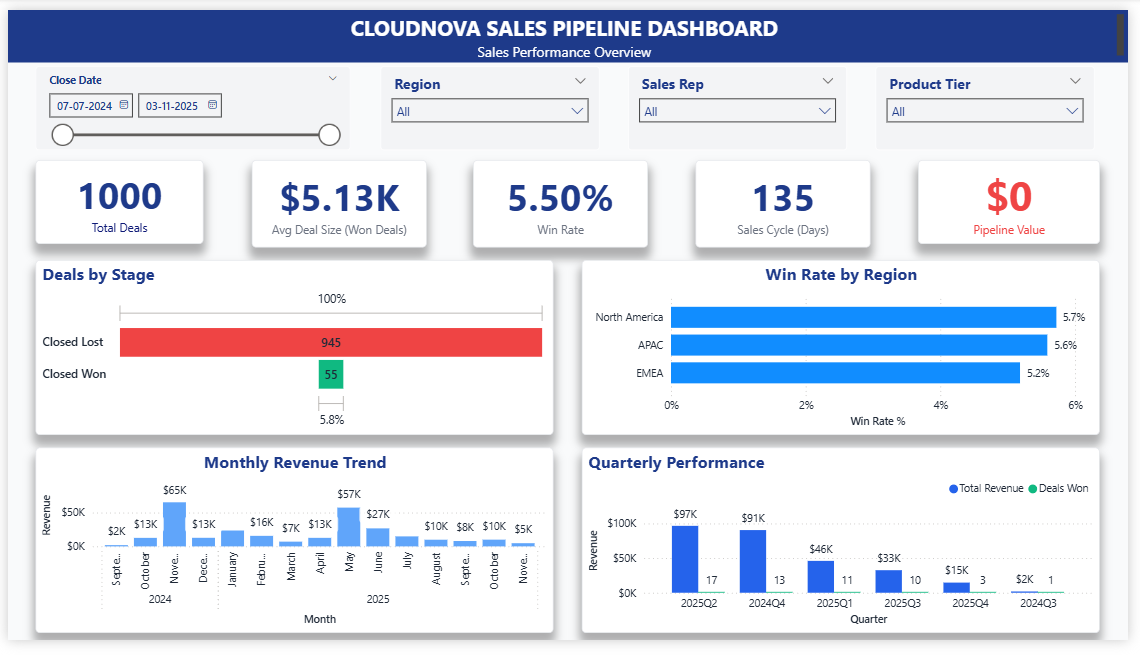

This screenshot's page, from the dashboard's own definition file:
{"tool":"powerbi","page":{"name":"Executive Overview","canvas":[1280,720],"ordinal":0},"visuals":[{"type":"textbox","box":[0,0,1280,60],"z":0},{"type":"card","fields":{"Values":["Measure Table.Total Deals"]},"box":[32,172,192,96],"z":1000},{"type":"card","fields":{"Values":["Measure Table.Win Rate %"]},"box":[532,172,200,100],"z":2000},{"type":"card","fields":{"Values":["Measure Table.Avg Deal Size (Won Deals)"]},"box":[278,172,200,100],"z":3000},{"type":"card","fields":{"Values":["Measure Table.Avg Sales Cycle (Won Deals)"]},"box":[786,172,200,100],"z":4000},{"type":"card","fields":{"Values":["Measure Table.Pipeline Value"]},"box":[1040,172,208,96],"z":5000},{"type":"slicer","fields":{"Values":["cleaned_cloudnova_sales_pipeline.Close_Date"]},"box":[32,64,360,96],"z":6000},{"type":"slicer","fields":{"Values":["cleaned_cloudnova_sales_pipeline.Region"]},"box":[425.3,64,250,96],"z":7000},{"type":"slicer","fields":{"Values":["cleaned_cloudnova_sales_pipeline.Sales_Rep"]},"box":[708.7,64,250,96],"z":8000},{"type":"slicer","fields":{"Values":["cleaned_cloudnova_sales_pipeline.Product_Tier"]},"box":[992,64,250,96],"z":9000},{"type":"funnel","title":"Deals by Stage","fields":{"Category":["cleaned_cloudnova_sales_pipeline.Stage"],"Y":["CountNonNull(cleaned_cloudnova_sales_pipeline.Opportunity_ID)"]},"box":[32,286,592,200],"z":10000},{"type":"clusteredBarChart","title":"Win Rate by Region","fields":{"Category":["cleaned_cloudnova_sales_pipeline.Region"],"Y":["Measure Table.Win Rate %"]},"box":[656,286,592,200],"z":11000},{"type":"lineClusteredColumnComboChart","title":"Monthly Revenue Trend","fields":{"Y":["Measure Table.Total Revenue (Won Deals)"],"Category":["cleaned_cloudnova_sales_pipeline.Month_Closed.Variation.Date Hierarchy.Year","cleaned_cloudnova_sales_pipeline.Month_Closed.Variation.Date Hierarchy.Month"]},"box":[32,500,592,212],"z":12000},{"type":"clusteredColumnChart","title":"Quarterly Performance","fields":{"Category":["cleaned_cloudnova_sales_pipeline.Quarter_Closed"],"Y":["Measure Table.Total Revenue (Won Deals)","Measure Table.Deals Won"]},"box":[656,500,592,212],"z":13000}]}

Visuals, with their boxes in screenshot pixels (x1, y1, x2, y2), scaled from the page's 1280x720 canvas onto the 1140x655 screenshot:
textbox: box(0, 0, 1139, 55)
card - Measure Table.Total Deals: box(28, 156, 200, 244)
card - Measure Table.Win Rate %: box(474, 156, 652, 247)
card - Measure Table.Avg Deal Size (Won Deals): box(248, 156, 426, 247)
card - Measure Table.Avg Sales Cycle (Won Deals): box(700, 156, 878, 247)
card - Measure Table.Pipeline Value: box(926, 156, 1112, 244)
slicer - cleaned_cloudnova_sales_pipeline.Close_Date: box(28, 58, 349, 146)
slicer - cleaned_cloudnova_sales_pipeline.Region: box(379, 58, 601, 146)
slicer - cleaned_cloudnova_sales_pipeline.Sales_Rep: box(631, 58, 854, 146)
slicer - cleaned_cloudnova_sales_pipeline.Product_Tier: box(884, 58, 1106, 146)
"Deals by Stage" funnel: box(28, 260, 556, 442)
"Win Rate by Region" clusteredBarChart: box(584, 260, 1112, 442)
"Monthly Revenue Trend" lineClusteredColumnComboChart: box(28, 455, 556, 648)
"Quarterly Performance" clusteredColumnChart: box(584, 455, 1112, 648)
